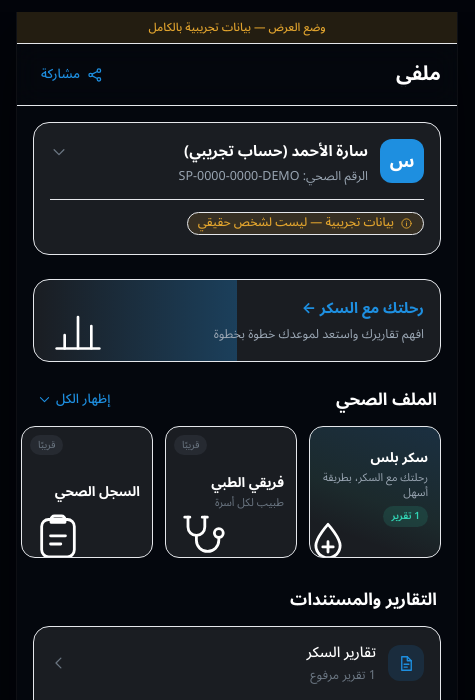
Test: the ملفي screen › opens Sukkar Plus when the tile is tapped
This screenshot has width=475, height=700.
Click the button with test id "sukkar-plus-tile" at (375, 492), box x1=309 y1=426 x2=441 y2=558
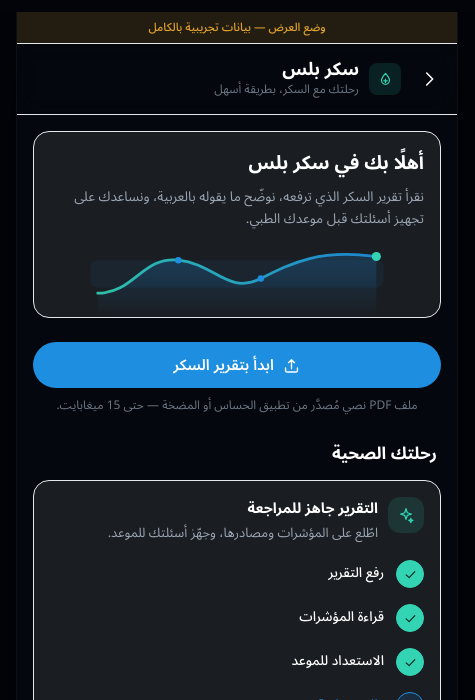
Check: the heading "أهلًا بك في سكر بلس" is shown, box x1=248 y1=143 x2=424 y2=183
